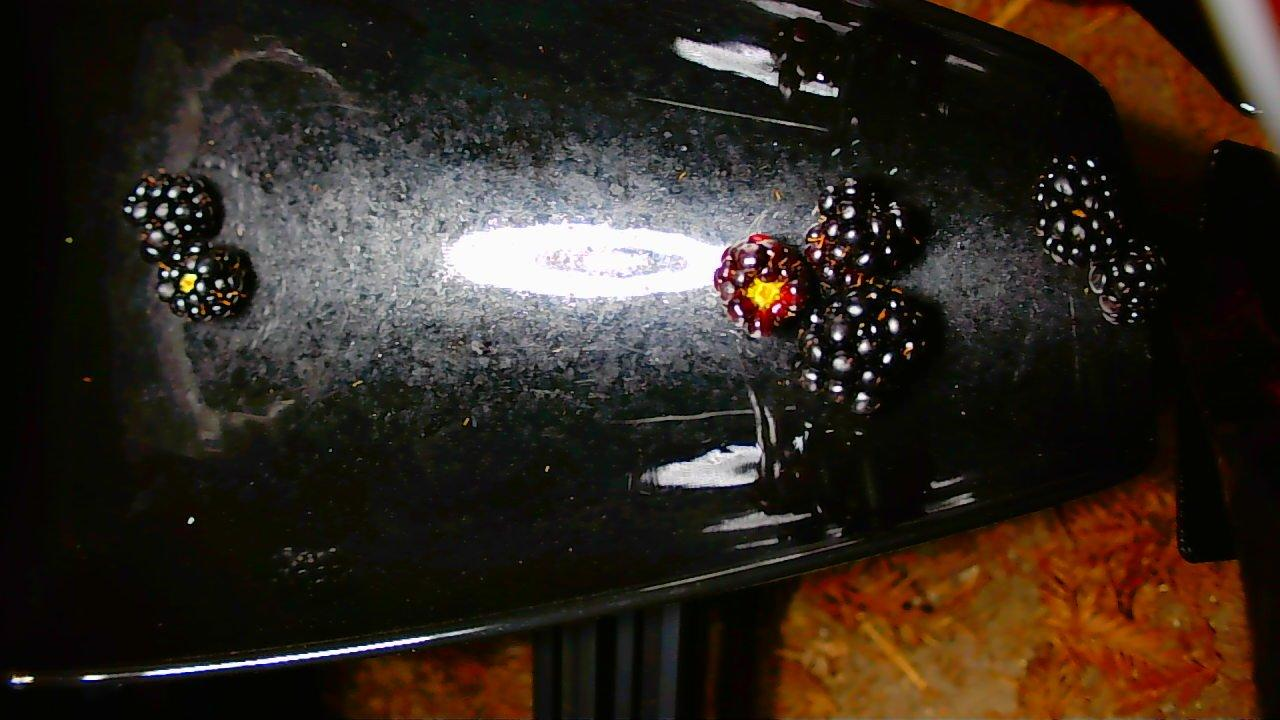berry: (795, 281, 927, 414), (805, 178, 919, 288), (1034, 157, 1124, 265), (715, 235, 808, 336), (122, 172, 220, 263), (157, 247, 250, 321), (1089, 241, 1168, 324)
